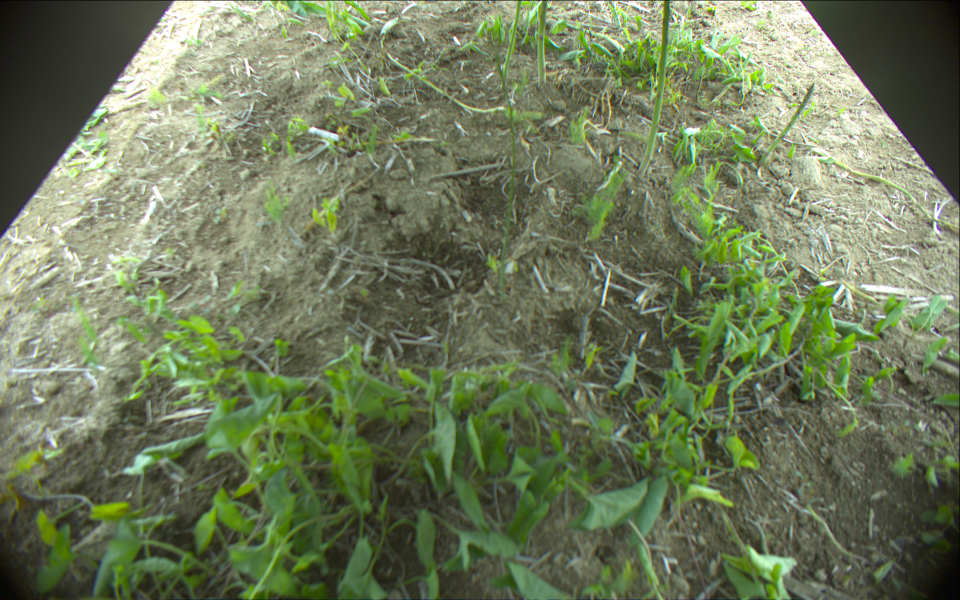aspa: (815, 147, 932, 219), (388, 52, 505, 114), (635, 1, 671, 176), (760, 80, 816, 166), (500, 1, 521, 87), (536, 1, 549, 84)
